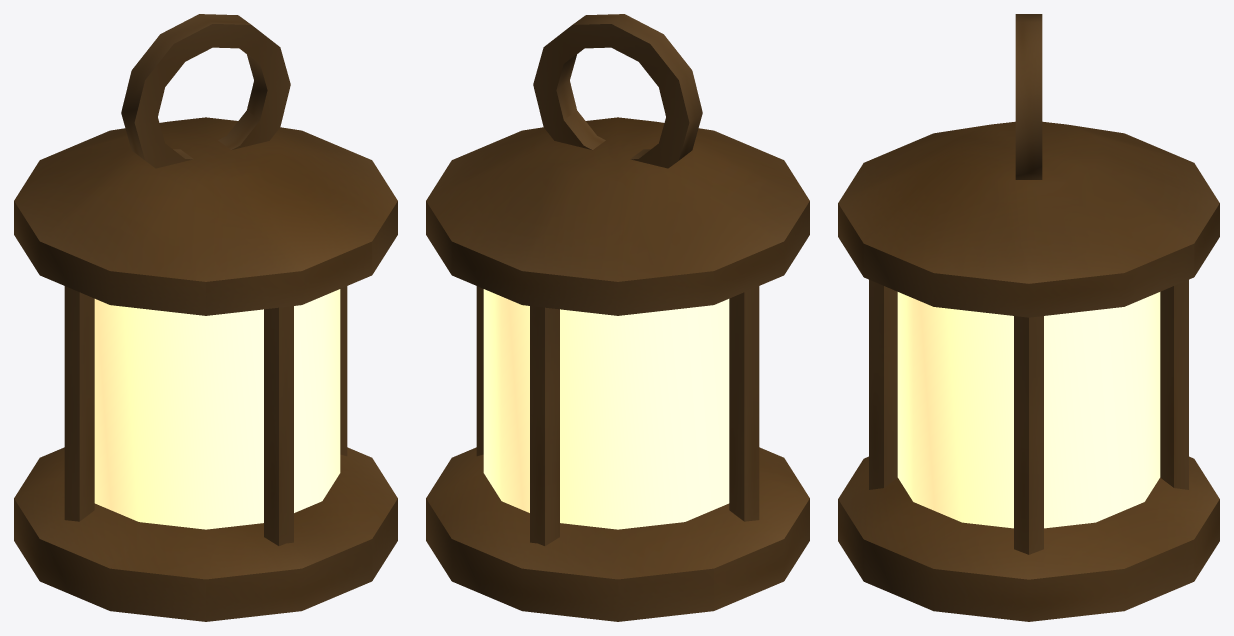
The model's file is Furn_Place_ItemIcons_Lantern.fbx.
3 renders of one model, left to right at view 1: azimuth 30°, elevation 25°; view 2: azimuth 150°, elevation 25°; view 3: azimuth 270°, elevation 25°, orthographic.
Parts seen in each view (by area): view 1: Furn_Place_ItemIcons_Lantern; view 2: Furn_Place_ItemIcons_Lantern; view 3: Furn_Place_ItemIcons_Lantern.
Boxes of the visible parts, x1,y1,x2,y2 form: Furn_Place_ItemIcons_Lantern: [14, 14, 397, 621]; Furn_Place_ItemIcons_Lantern: [426, 14, 809, 621]; Furn_Place_ItemIcons_Lantern: [838, 14, 1219, 621].
Size of the model in its own units: 0.2 by 0.3 by 0.2.
Materials: 2 (1 with a texture image).
